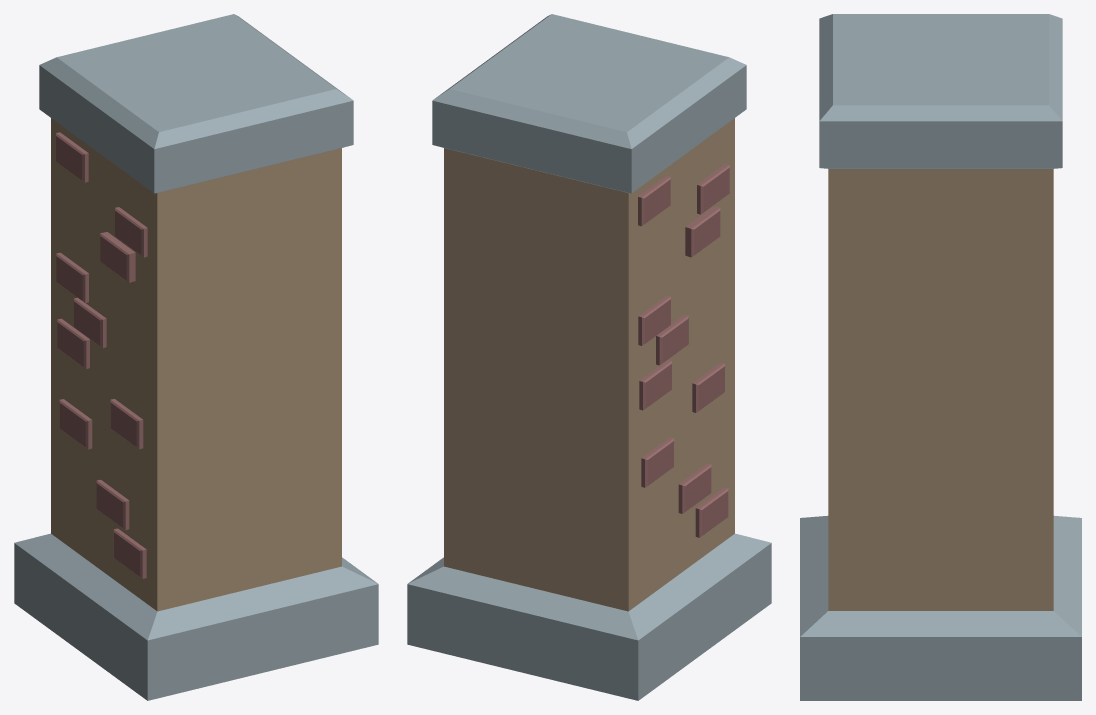
The model's file is WallPost.fbx.
The picture shows the model from 3 angles, left to right: view 1: azimuth 30°, elevation 25°; view 2: azimuth 150°, elevation 25°; view 3: azimuth 270°, elevation 25°; orthographic projection. The views are drawn at different scales.
Parts seen in each view (by area): view 1: Cube, Cube.010, Cube.001, Cube.002, Cube.009, Cube.006, Cube.008, Cube.005, Cube.007, Cube.004, Cube.003; view 2: Cube, Cube.010, Cube.001, Cube.002, Cube.005, Cube.006, Cube.008, Cube.009, Cube.004, Cube.007, Cube.003; view 3: Cube.
Boxes of the visible parts, left/top/right/bottom form: Cube: left=14, top=14, right=378, bottom=700; Cube.010: left=100, top=232, right=135, bottom=282; Cube.001: left=113, top=528, right=146, bottom=578; Cube.002: left=96, top=479, right=129, bottom=530; Cube.009: left=59, top=399, right=92, bottom=449; Cube.006: left=110, top=399, right=143, bottom=449; Cube.008: left=115, top=207, right=147, bottom=257; Cube.005: left=57, top=318, right=89, bottom=368; Cube.007: left=56, top=132, right=88, bottom=182; Cube.004: left=56, top=252, right=88, bottom=302; Cube.003: left=74, top=298, right=106, bottom=348; Cube: left=407, top=14, right=771, bottom=700; Cube.010: left=685, top=206, right=720, bottom=257; Cube.001: left=695, top=487, right=728, bottom=537; Cube.002: left=678, top=463, right=711, bottom=513; Cube.005: left=639, top=360, right=671, bottom=410; Cube.006: left=692, top=362, right=724, bottom=412; Cube.008: left=697, top=164, right=729, bottom=214; Cube.009: left=641, top=437, right=673, bottom=487; Cube.004: left=638, top=295, right=670, bottom=345; Cube.007: left=638, top=176, right=670, bottom=226; Cube.003: left=656, top=315, right=688, bottom=365; Cube: left=800, top=14, right=1081, bottom=700.
Size of the model in its own units: 100 by 228 by 100.
